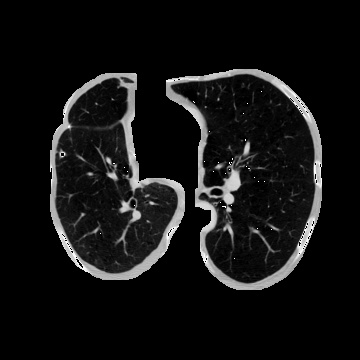PN: (59, 151, 65, 157)
